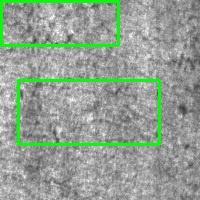crazing: (18, 80, 159, 144), (1, 1, 118, 45)
